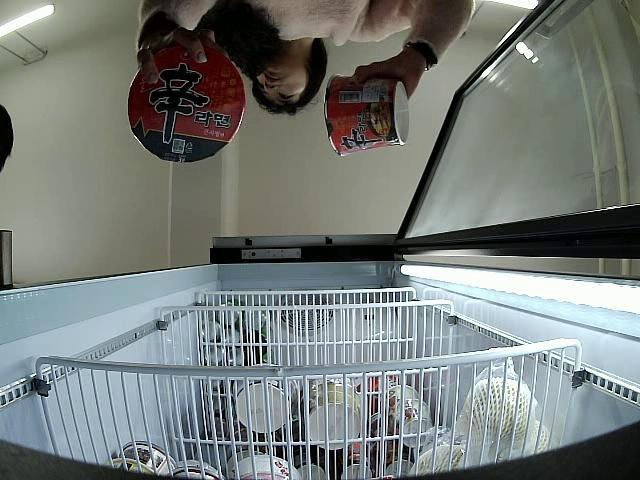01_ShinRamen_L: (130, 43, 244, 162), (324, 74, 410, 156)
